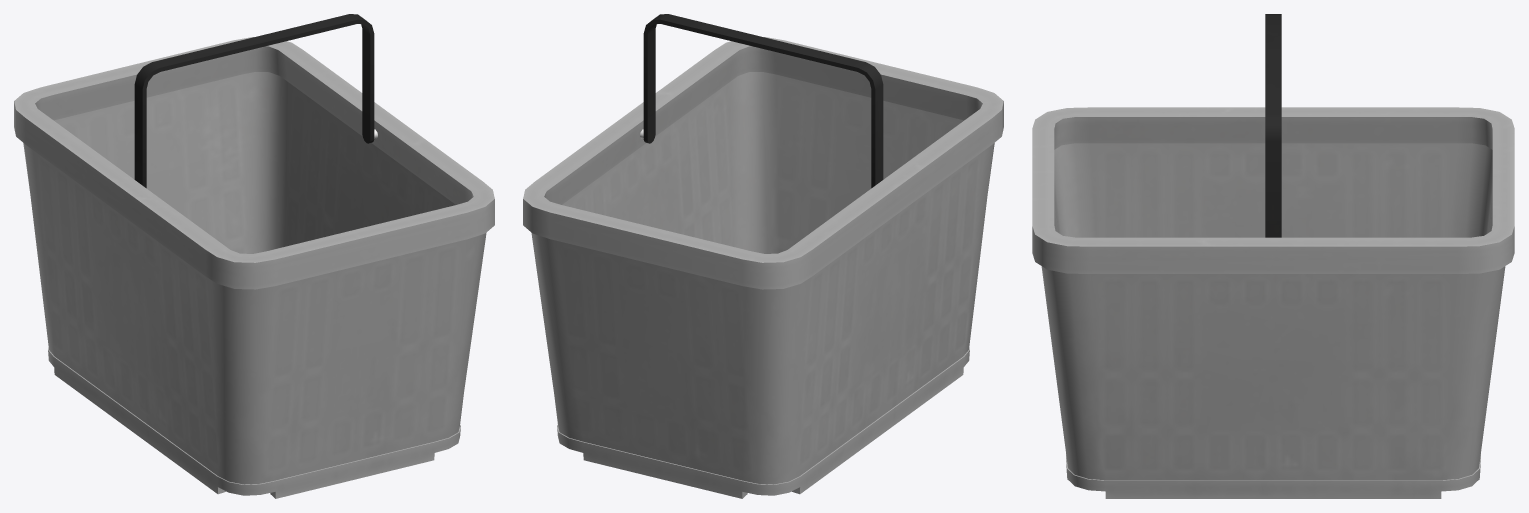
File: SM_Basket.fbx
The picture shows the model from 3 angles, left to right: view 1: azimuth 30°, elevation 25°; view 2: azimuth 150°, elevation 25°; view 3: azimuth 270°, elevation 25°; orthographic projection. The views are drawn at different scales.
Parts seen in each view (by area): view 1: SM_Basket_LOD0; view 2: SM_Basket_LOD0; view 3: SM_Basket_LOD0.
Part boxes in pixels (box(x1,y1,x2,y2)): SM_Basket_LOD0: box(14, 14, 494, 498); SM_Basket_LOD0: box(523, 14, 1003, 498); SM_Basket_LOD0: box(1032, 14, 1514, 498).
Size of the model in its own units: 38.03 by 55.68 by 47.73.
